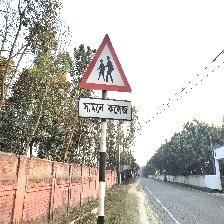College-in-front: (61, 20, 157, 133)
